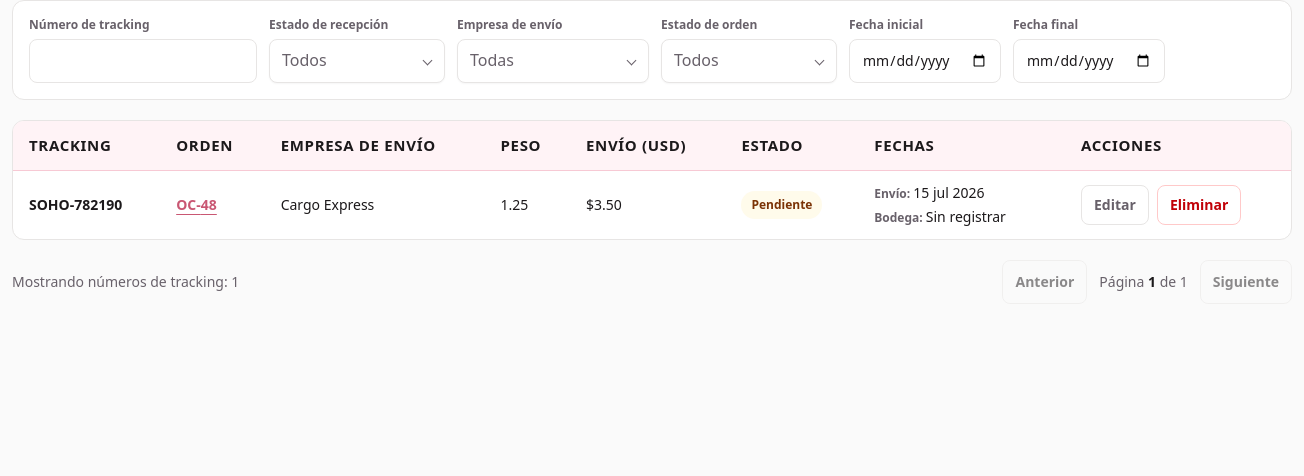
Scenario: TrackingNumbersPage review regressions › shows failed deletion feedback while keeping confirmation open
Expected: the text "SOHO-782190" is shown, [29, 195, 122, 214]
Click the button with aria-label "Eliminar tracking SOHO-782190" at (1199, 205), box [1157, 185, 1241, 225]
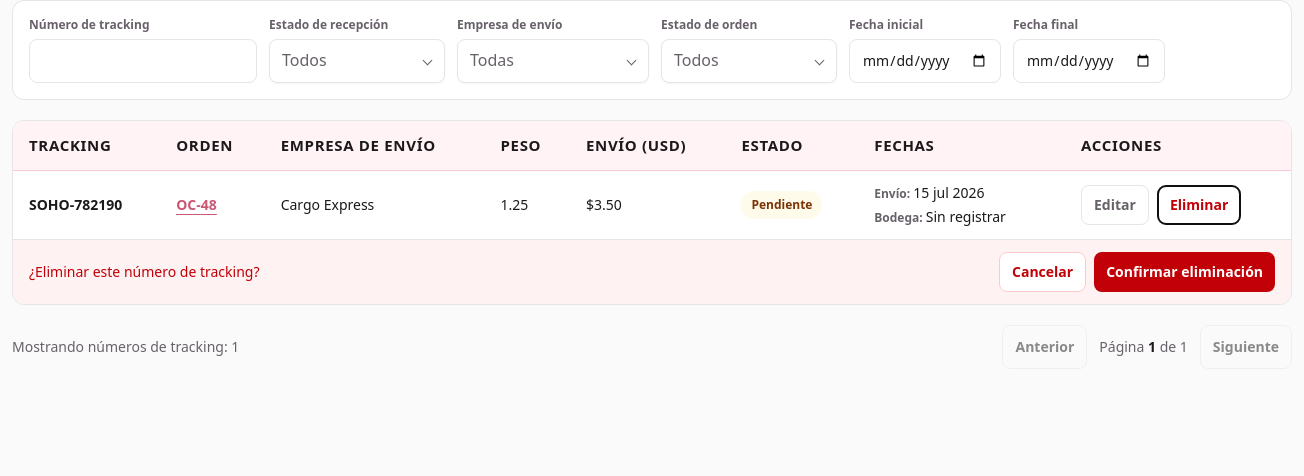
Click the button "Confirmar eliminación" at (1185, 272), box [1094, 252, 1275, 292]
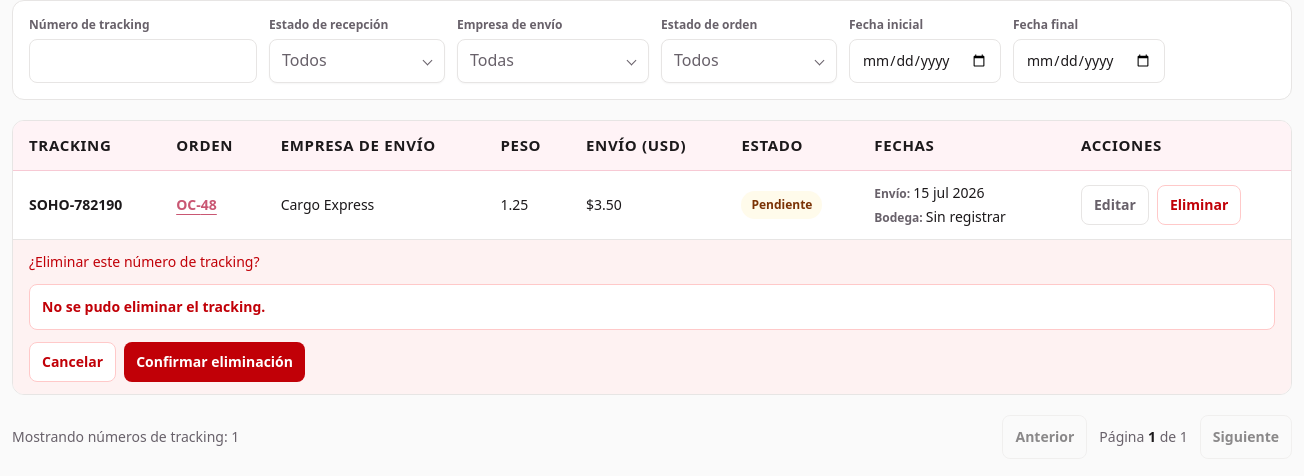
Now the button "Confirmar eliminación" is enabled, box [124, 342, 305, 382]
Now the text "No se pudo eliminar el tracking." is shown, box [29, 284, 1275, 330]
